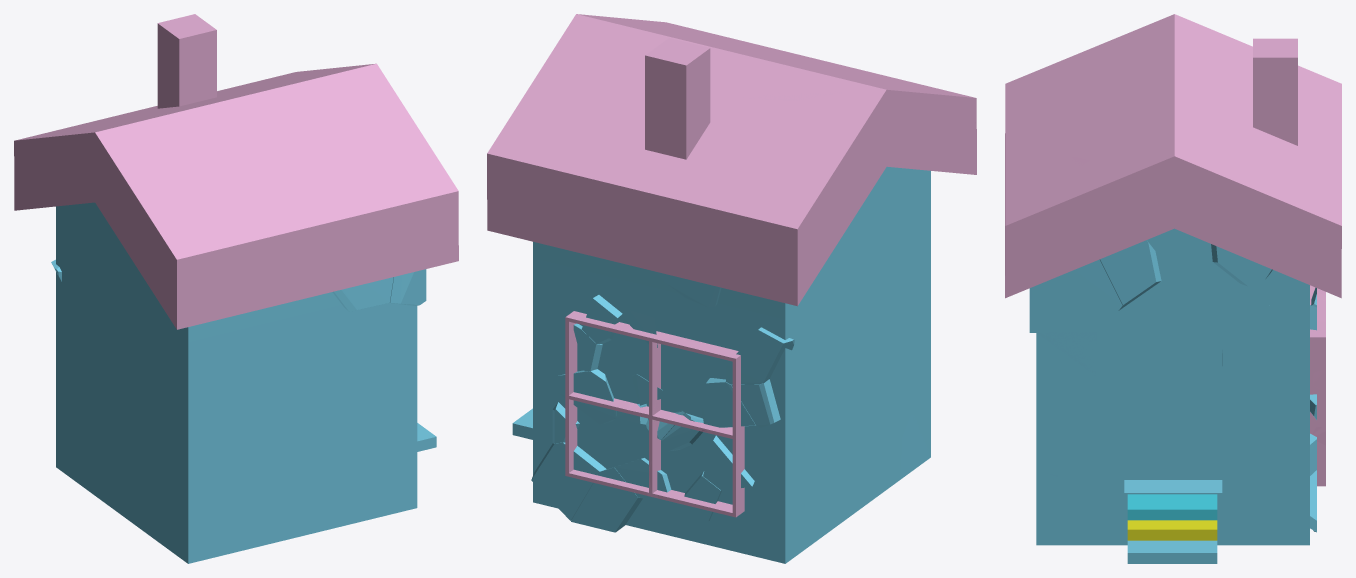
File: Homehakaaai.fbx
The picture shows the model from 3 angles, left to right: view 1: azimuth 30°, elevation 25°; view 2: azimuth 150°, elevation 25°; view 3: azimuth 270°, elevation 25°; orthographic projection. The views are drawn at different scales.
Parts seen in each view (by area): view 1: Cube, Cube.001, Cube_cell.091, Cube_cell.201, Cube_cell.017, Cube.001_cell.008, Cube.001_cell.080, Cube.001_cell.084, Cube_cell.125, Cube.001_cell.041, Cube.001_cell.025, Cube_cell.068 (+27 smaller); view 2: Cube.001, Cube, Cube.010, Cube.009, Cube_cell.068, Cube.001_cell.073, Cube_cell.167, Cube_cell.052, Cube_cell.095, Cube_cell.076, Cube_cell.059, Cube_cell.058 (+35 smaller); view 3: Cube.001, Cube, Cube_cell.067, Cube.010, Cube_cell.114, Cube_cell.109, Cube_cell.088, Cube_cell.038, Cube_cell.170, Cube.001_cell.080, Cube_cell.037, Cube.001_cell.084 (+34 smaller).
Boxes of the visible parts, left/top/right/bottom form: Cube: left=56, top=202, right=417, bottom=563; Cube.001: left=14, top=63, right=458, bottom=329; Cube_cell.091: left=238, top=292, right=345, bottom=384; Cube_cell.201: left=193, top=377, right=304, bottom=501; Cube_cell.017: left=164, top=315, right=260, bottom=445; Cube.001_cell.008: left=335, top=212, right=458, bottom=287; Cube.001_cell.080: left=222, top=84, right=316, bottom=158; Cube.001_cell.084: left=181, top=151, right=287, bottom=213; Cube_cell.125: left=122, top=284, right=205, bottom=378; Cube.001_cell.041: left=163, top=266, right=273, bottom=329; Cube.001_cell.025: left=210, top=219, right=310, bottom=290; Cube_cell.068: left=110, top=375, right=201, bottom=496; Cube.001: left=487, top=14, right=976, bottom=306; Cube: left=533, top=167, right=930, bottom=563; Cube.010: left=645, top=39, right=710, bottom=159; Cube.009: left=565, top=313, right=744, bottom=514; Cube_cell.068: left=864, top=348, right=930, bottom=415; Cube.001_cell.073: left=597, top=90, right=733, bottom=177; Cube_cell.167: left=792, top=294, right=841, bottom=400; Cube_cell.052: left=531, top=442, right=606, bottom=520; Cube_cell.095: left=761, top=400, right=819, bottom=481; Cube_cell.076: left=571, top=467, right=642, bottom=532; Cube_cell.059: left=831, top=166, right=900, bottom=264; Cube_cell.058: left=725, top=327, right=794, bottom=384; Cube.001: left=1005, top=14, right=1341, bottom=298; Cube: left=1036, top=228, right=1309, bottom=545; Cube_cell.067: left=1029, top=259, right=1122, bottom=332; Cube.010: left=1253, top=38, right=1297, bottom=145; Cube_cell.114: left=1036, top=338, right=1094, bottom=432; Cube_cell.109: left=1239, top=422, right=1298, bottom=501; Cube_cell.088: left=1102, top=293, right=1204, bottom=349; Cube_cell.038: left=1256, top=340, right=1309, bottom=419; Cube_cell.170: left=1036, top=403, right=1098, bottom=474; Cube.001_cell.080: left=1099, top=81, right=1174, bottom=135; Cube_cell.037: left=1099, top=240, right=1161, bottom=310; Cube.001_cell.084: left=1033, top=71, right=1114, bottom=132.
Size of the model in its own units: 278 by 360 by 246.
